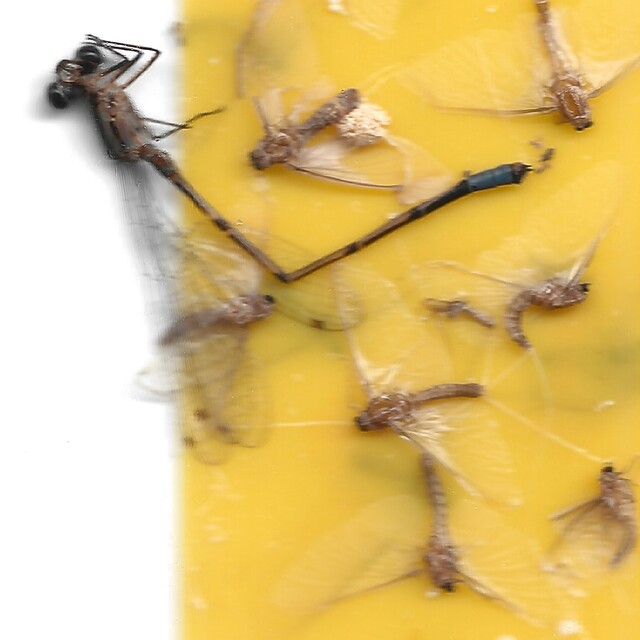Ephemeroptera: (248, 86, 363, 172), (416, 452, 467, 594), (159, 288, 274, 348), (352, 382, 485, 433), (504, 279, 593, 349)
Nematocera: (422, 292, 494, 330)
Odonata: (47, 46, 532, 284)
